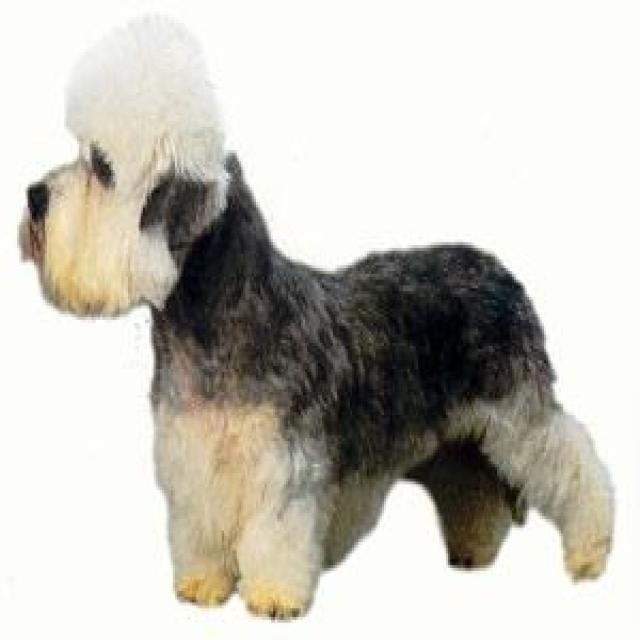dandie_dinmont: (17, 14, 617, 620)
